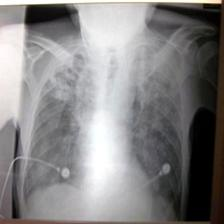tuberculosis: (19, 18, 187, 220)
